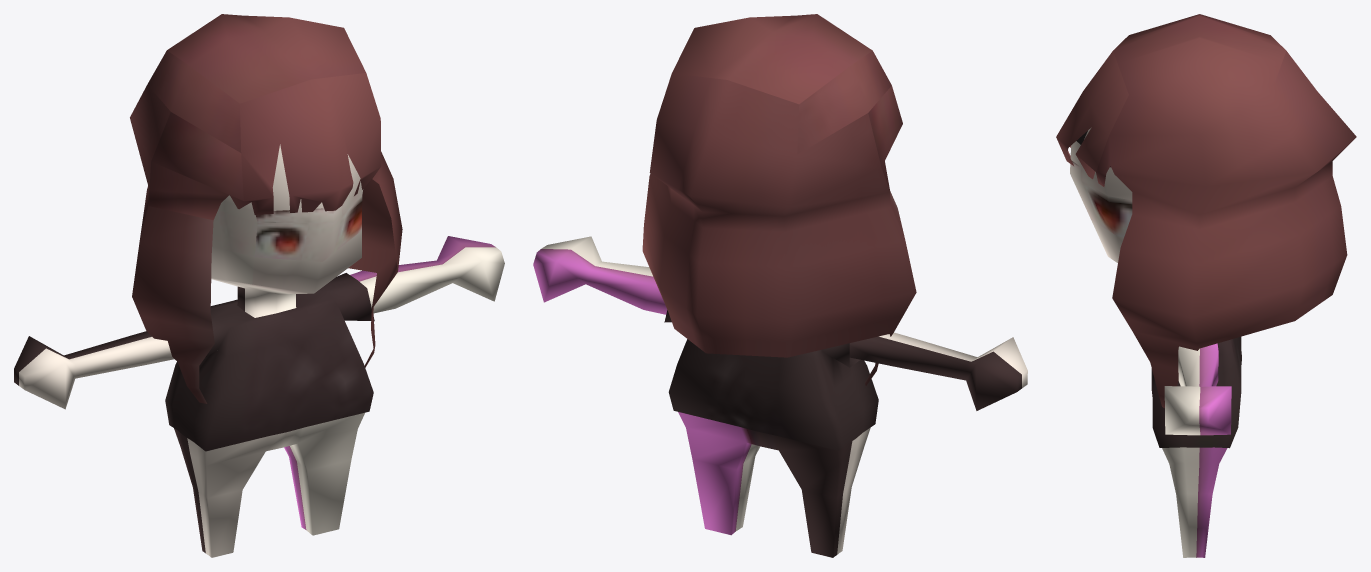
Rendered from tesheadxdxdxd22.glb.
The picture shows the model from 3 angles, left to right: view 1: azimuth 30°, elevation 25°; view 2: azimuth 150°, elevation 25°; view 3: azimuth 270°, elevation 25°; orthographic projection. The views are drawn at different scales.
Parts seen in each view (by area): view 1: Cube.001, Cube, Cube.002; view 2: Cube.001, Cube, Cube.002; view 3: Cube.001, Cube, Cube.002.
Boxes of the visible parts, box(x1,y1,x2,y2) form: Cube.001: box(130, 14, 402, 403); Cube: box(14, 144, 504, 557); Cube.002: box(165, 273, 374, 451); Cube.001: box(642, 14, 916, 385); Cube: box(533, 236, 1027, 557); Cube.002: box(664, 310, 878, 450); Cube.001: box(1056, 14, 1356, 408); Cube: box(1070, 127, 1231, 557); Cube.002: box(1151, 336, 1241, 448).
Size of the model in its own units: 4.93 by 5.05 by 2.76.
2 materials, 2 textured.
